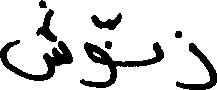X: (0, 0, 72, 85), (74, 10, 116, 89), (179, 26, 216, 89), (153, 37, 163, 68)
